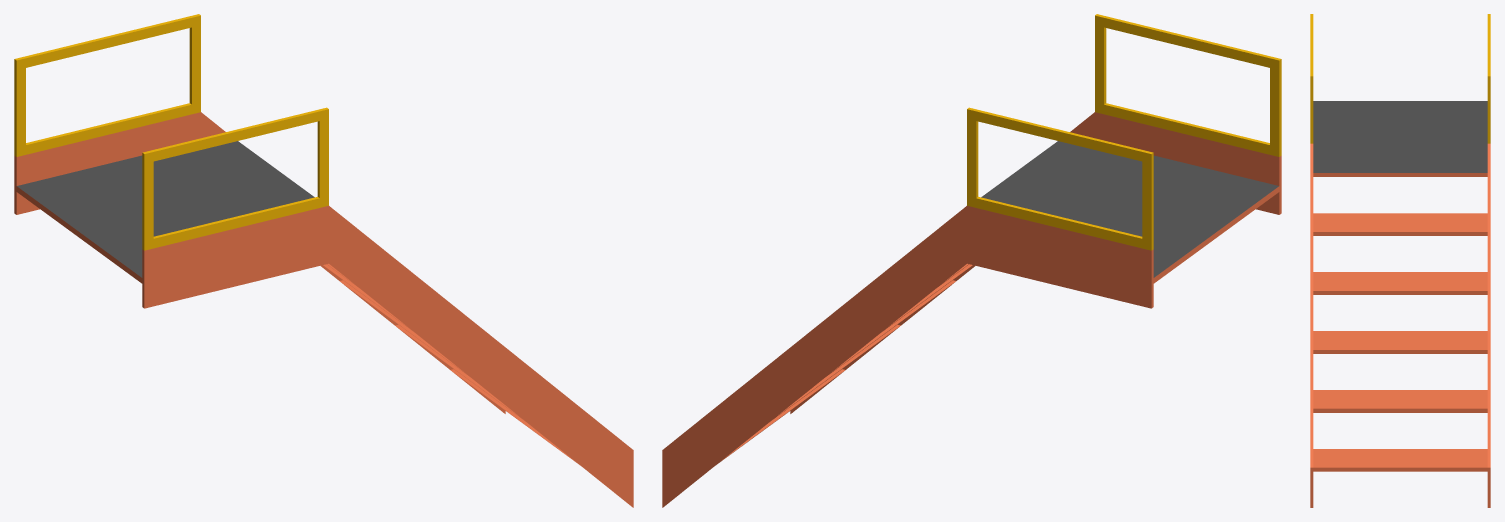
The model's file is Prop_Industrial_Platform_Walkway_Narrow_Steps_w_Platform_03.FBX.
3 renders of one model, left to right at view 1: azimuth 30°, elevation 25°; view 2: azimuth 150°, elevation 25°; view 3: azimuth 270°, elevation 25°, orthographic. The views are drawn at different scales.
Parts seen in each view (by area): view 1: Prop_Industrial_Platform_Walkway_Narrow_Steps_w_Platform_03; view 2: Prop_Industrial_Platform_Walkway_Narrow_Steps_w_Platform_03; view 3: Prop_Industrial_Platform_Walkway_Narrow_Steps_w_Platform_03.
Part boxes in pixels (left/top/right/bottom): Prop_Industrial_Platform_Walkway_Narrow_Steps_w_Platform_03: left=14, top=14, right=633, bottom=507; Prop_Industrial_Platform_Walkway_Narrow_Steps_w_Platform_03: left=662, top=14, right=1281, bottom=507; Prop_Industrial_Platform_Walkway_Narrow_Steps_w_Platform_03: left=1310, top=14, right=1490, bottom=507.
Size of the model in its own units: 5300 by 4900 by 2440.
